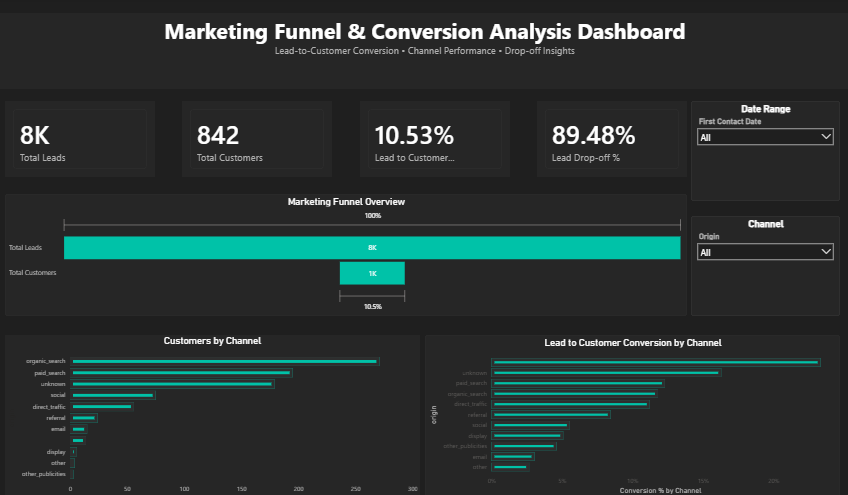

Layout of this report page (visuals, bound fields, positions):
{"tool":"powerbi","page":{"name":"Page 1","canvas":[1700,1000],"ordinal":0},"visuals":[{"type":"cardVisual","fields":{"Data":["olist_marketing_qualified_leads_dataset.Total Leads"]},"box":[10,206,300,152],"z":0},{"type":"cardVisual","fields":{"Data":["olist_closed_deals_dataset.Total Customers"]},"box":[364.7,206,300,152],"z":1000},{"type":"cardVisual","fields":{"Data":["olist_closed_deals_dataset.Lead to Customer Conversion %"]},"box":[719.3,206,300,152],"z":2000},{"type":"cardVisual","fields":{"Data":["olist_closed_deals_dataset.Lead Drop-off %"]},"box":[1074,206,300,152],"z":3000},{"type":"funnel","title":"Marketing Funnel Overview","fields":{"Y":["olist_marketing_qualified_leads_dataset.Total Leads","olist_closed_deals_dataset.Total Customers"]},"box":[10,392,1364,244],"z":4000},{"type":"clusteredBarChart","title":"Customers by Channel","fields":{"Category":["olist_marketing_qualified_leads_dataset.origin"],"Y":["olist_closed_deals_dataset.Total Customers"]},"box":[10,674,830,326],"z":5000},{"type":"clusteredBarChart","title":"Lead to Customer Conversion by Channel","fields":{"Category":["olist_marketing_qualified_leads_dataset.origin"],"Y":["olist_closed_deals_dataset.Conversion % by Channel"]},"box":[850,674,830,326],"z":6000},{"type":"slicer","title":"Channel","fields":{"Values":["olist_marketing_qualified_leads_dataset.origin"]},"box":[1382,436,298,200],"z":7000},{"type":"shape","box":[0,30,1500,152],"z":8000},{"type":"textbox","box":[0,30,1700,152],"z":9000},{"type":"slicer","title":"Date Range","fields":{"Values":["olist_marketing_qualified_leads_dataset.first_contact_date"]},"box":[1382,206,298,200],"z":9001}]}

Visuals, with their boxes in screenshot pixels (x1, y1, x2, y2), scaled from the page's 1700x1000 canvas onto the 848x495 screenshot:
cardVisual - olist_marketing_qualified_leads_dataset.Total Leads: <region>5, 102, 155, 177</region>
cardVisual - olist_closed_deals_dataset.Total Customers: <region>182, 102, 332, 177</region>
cardVisual - olist_closed_deals_dataset.Lead to Customer Conversion %: <region>359, 102, 508, 177</region>
cardVisual - olist_closed_deals_dataset.Lead Drop-off %: <region>536, 102, 685, 177</region>
"Marketing Funnel Overview" funnel: <region>5, 194, 685, 315</region>
"Customers by Channel" clusteredBarChart: <region>5, 334, 419, 494</region>
"Lead to Customer Conversion by Channel" clusteredBarChart: <region>424, 334, 838, 494</region>
"Channel" slicer: <region>689, 216, 838, 315</region>
shape: <region>0, 15, 748, 90</region>
textbox: <region>0, 15, 847, 90</region>
"Date Range" slicer: <region>689, 102, 838, 201</region>
